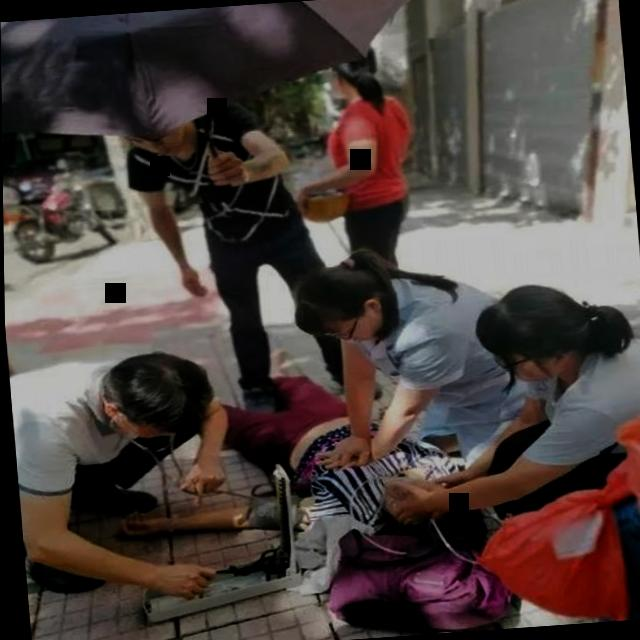Fall-Detected: (149, 328, 525, 638)
